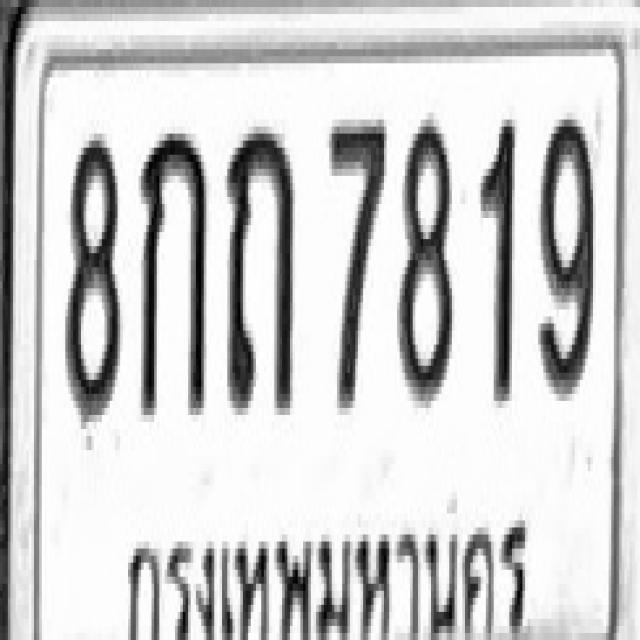1: (478, 112, 515, 401)
10GorGai: (138, 123, 206, 419)
31ThorThung: (225, 120, 295, 415)
7: (328, 116, 385, 411)
8: (63, 130, 120, 426), (397, 116, 452, 404)
9: (538, 116, 593, 397)
Bangkok: (112, 499, 538, 640)
